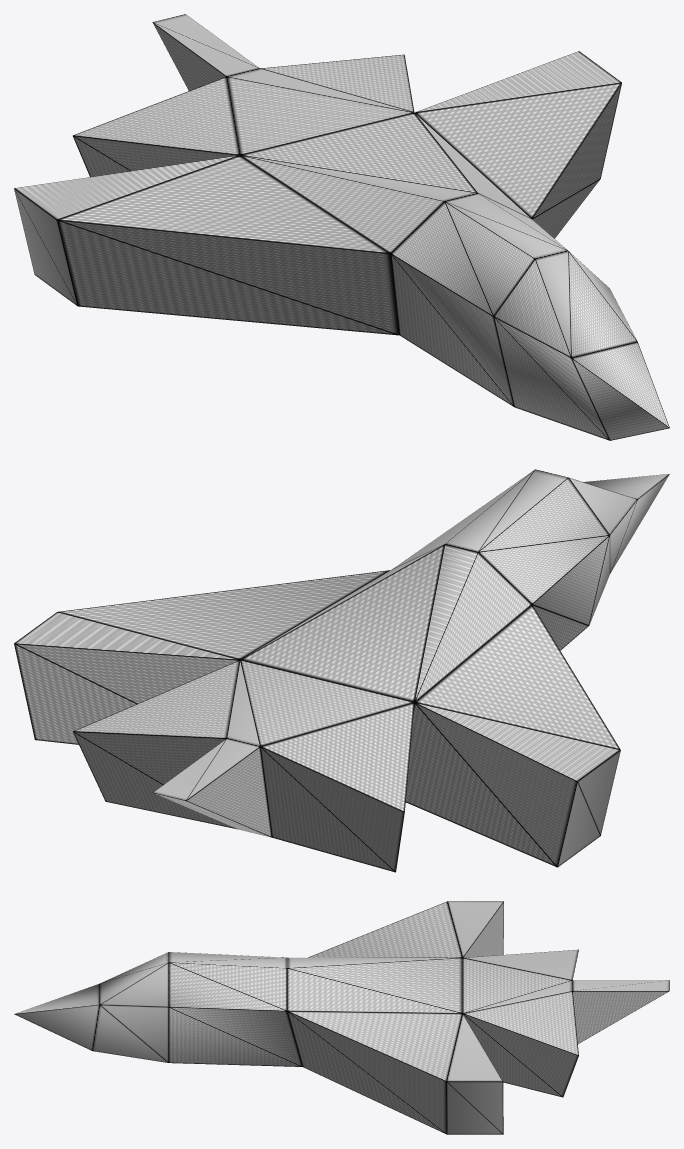
The model's file is FIG_SHOUKO.obj.
The picture shows the model from 3 angles, top to bottom: view 1: azimuth 30°, elevation 25°; view 2: azimuth 150°, elevation 25°; view 3: azimuth 270°, elevation 25°; orthographic projection. The views are drawn at different scales.
Bounding box in the file's own units: 136 × 33 × 209.
Materials: 1 (1 with a texture image).
